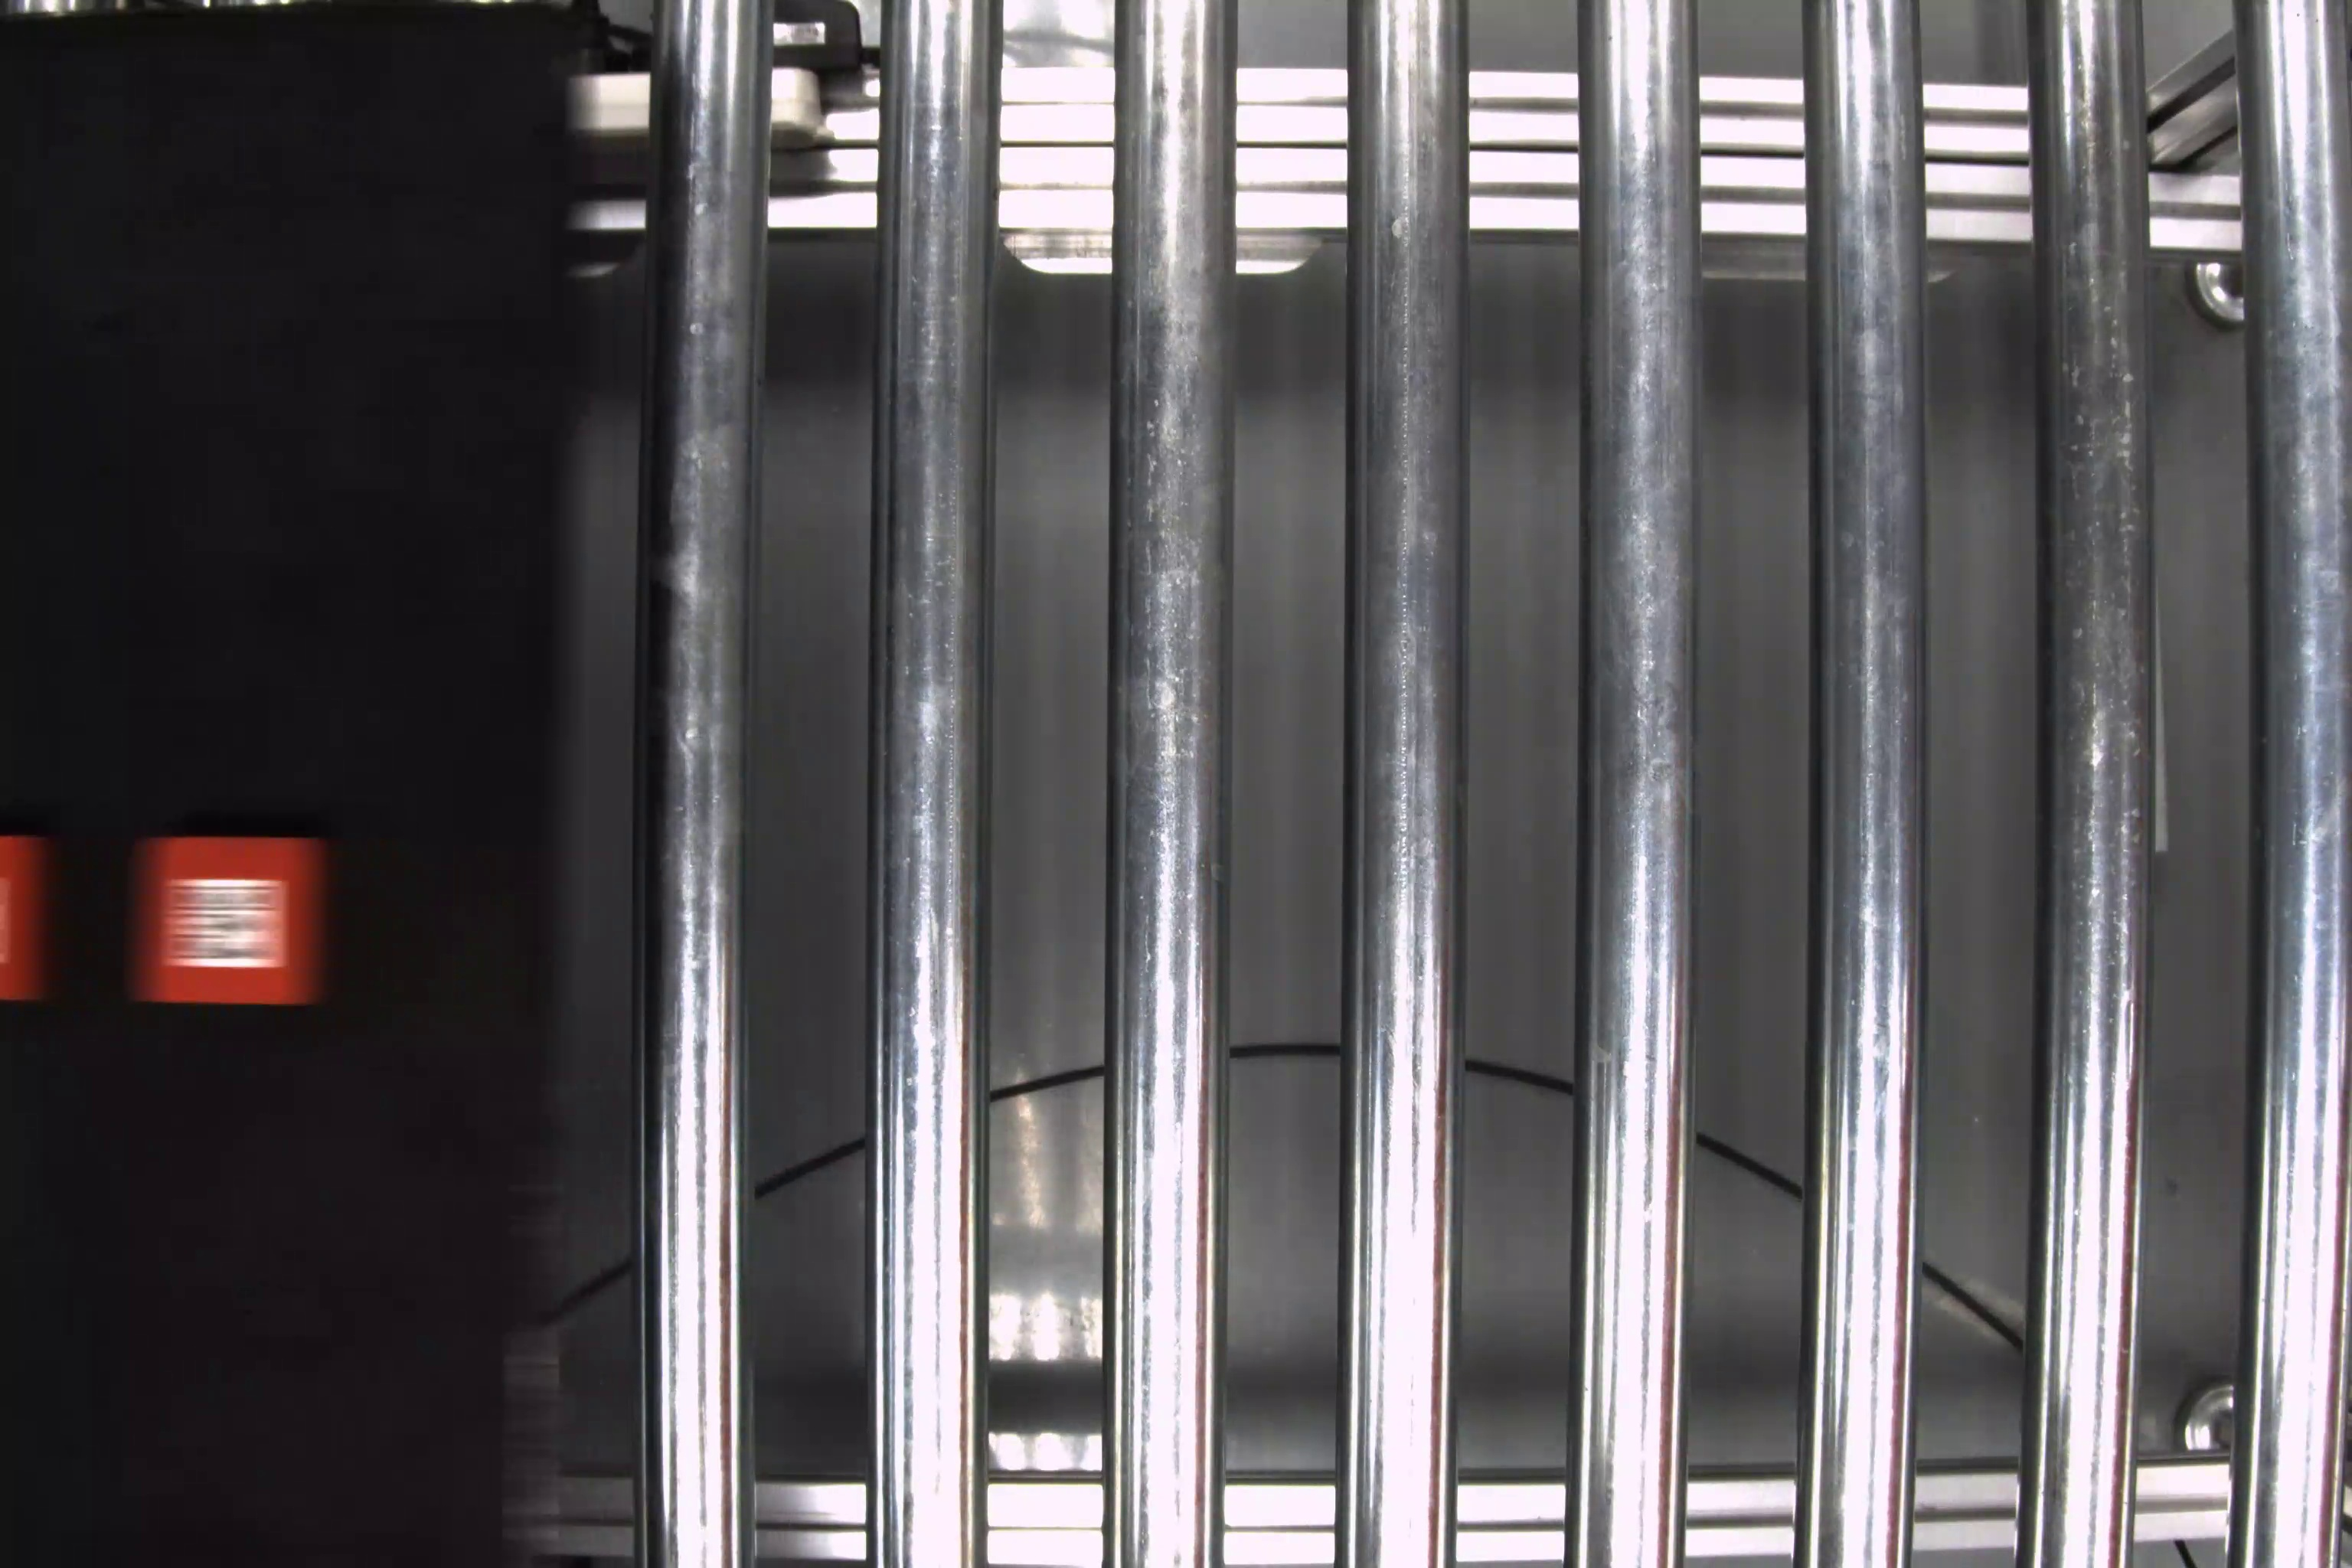wood: (129, 835, 336, 1006), (2, 828, 66, 1004)
